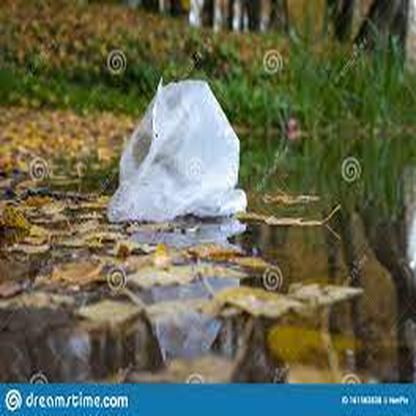plastic bag: (107, 76, 248, 221)
